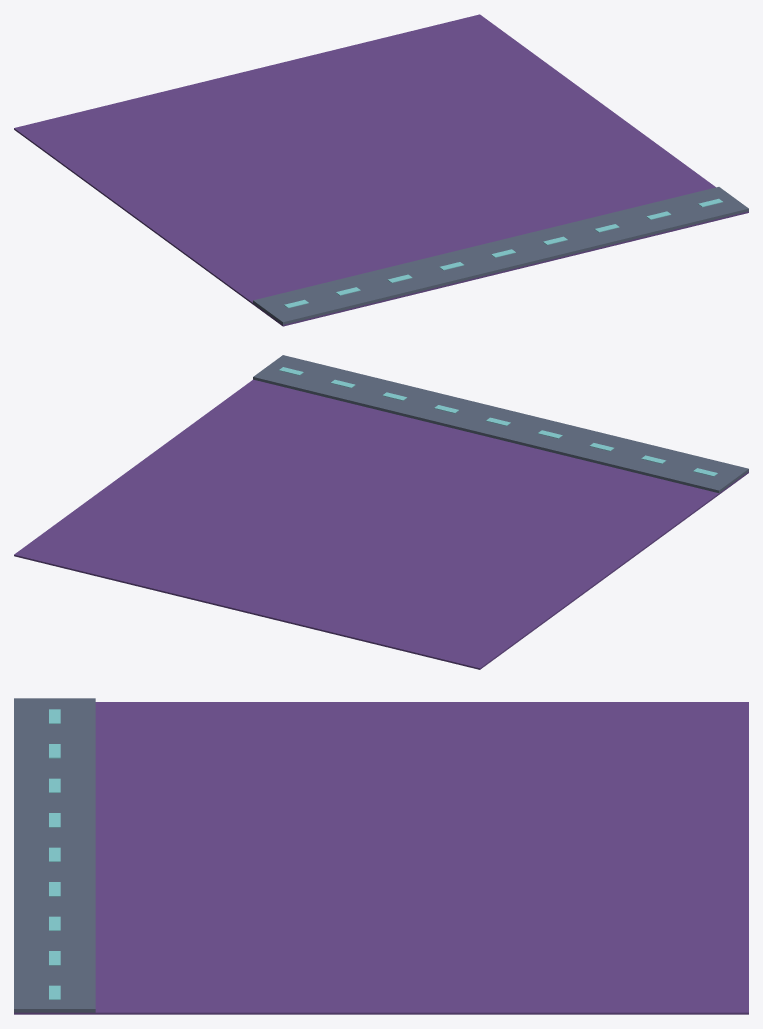
The model's file is stage_00.glb.
3 renders of one model, top to bottom at view 1: azimuth 30°, elevation 25°; view 2: azimuth 150°, elevation 25°; view 3: azimuth 270°, elevation 25°, orthographic. The views are drawn at different scales.
Visible parts, largest first — view 1: geometry_0; view 2: geometry_0; view 3: geometry_0.
Boxes of the visible parts, x1,y1,x2,y2 form: geometry_0: (14, 14, 748, 326); geometry_0: (14, 355, 748, 669); geometry_0: (14, 698, 748, 1014).
Size of the model in its own units: 9 by 0.091 by 9.
